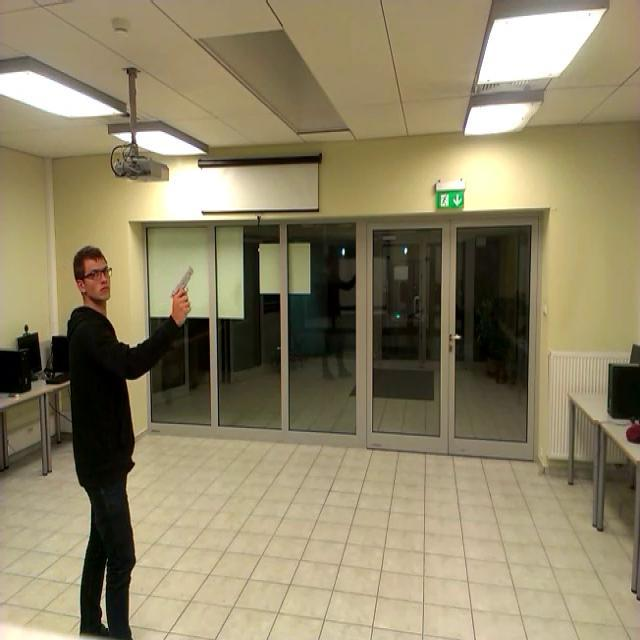Gun: (165, 254, 205, 306)
